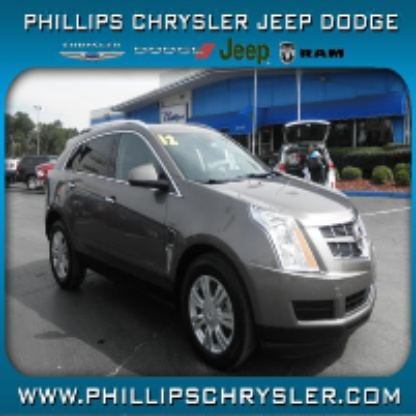Vehicle: (41, 112, 375, 374)
